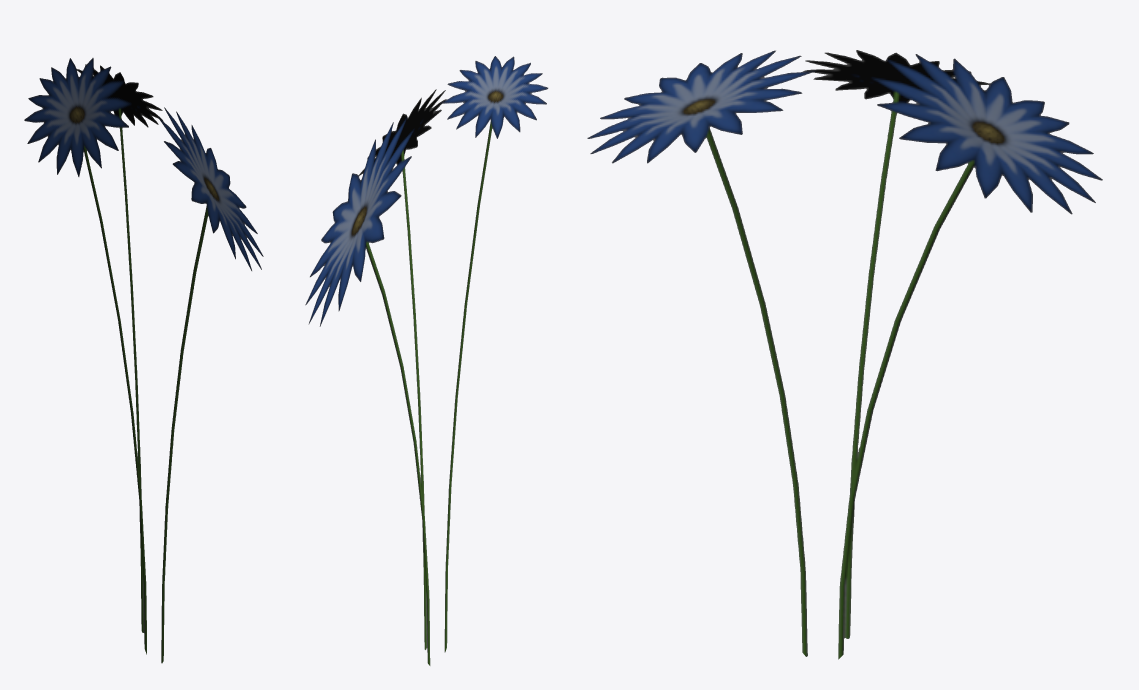
Rendered from flor2.fbx.
3 views of the same model, side by side, from view 1: azimuth 30°, elevation 25°; view 2: azimuth 150°, elevation 25°; view 3: azimuth 270°, elevation 25° (orthographic). The views are drawn at different scales.
Parts seen in each view (by area): view 1: flor2; view 2: flor2; view 3: flor2.
Part boxes in pixels (box(x1,y1,x2,y2)): flor2: box(24, 58, 263, 663); flor2: box(305, 56, 548, 665); flor2: box(587, 50, 1102, 659).
Size of the model in its own units: 2.74e-15 by 8.67 by 6.46.
